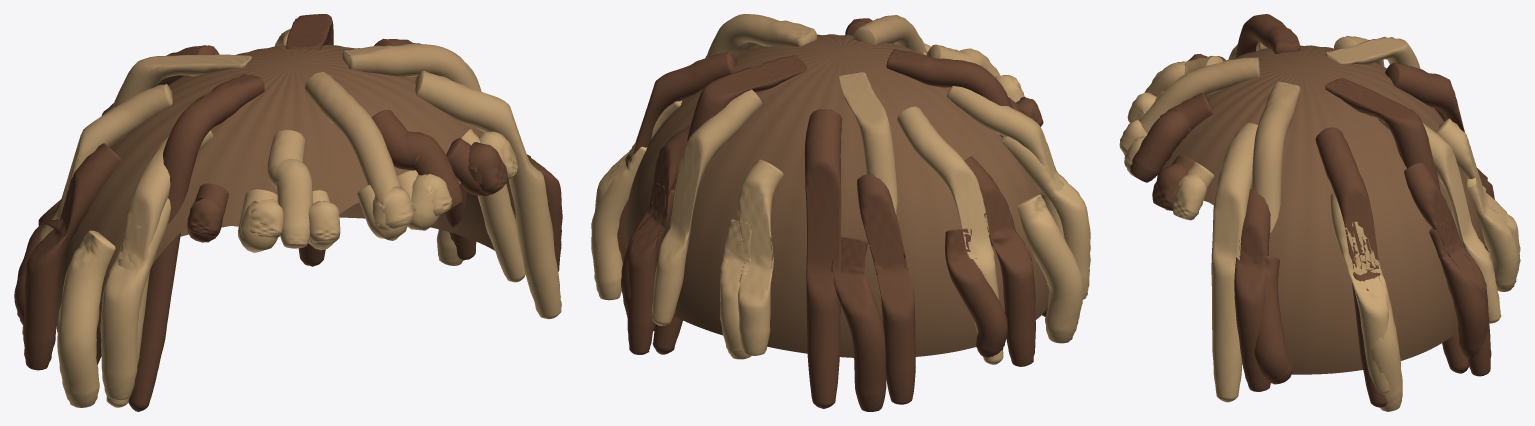
The model's file is Highlights-ce6d6e98d7a8251-hair.glb.
The picture shows the model from 3 angles, left to right: view 1: azimuth 30°, elevation 25°; view 2: azimuth 150°, elevation 25°; view 3: azimuth 270°, elevation 25°; orthographic projection. The views are drawn at different scales.
Visible parts, largest first — view 1: 226 hair / Hair / loc main251.001, 226 hair / Hair / loc accent251.001, 226 hair / Hair / recessed roots251.001; view 2: 226 hair / Hair / loc main251.001, 226 hair / Hair / recessed roots251.001, 226 hair / Hair / loc accent251.001; view 3: 226 hair / Hair / recessed roots251.001, 226 hair / Hair / loc main251.001, 226 hair / Hair / loc accent251.001.
Part boxes in pixels (x1,y1,x2,y2): 226 hair / Hair / loc main251.001: (14, 14, 562, 411); 226 hair / Hair / loc accent251.001: (57, 28, 561, 407); 226 hair / Hair / recessed roots251.001: (56, 44, 516, 364); 226 hair / Hair / loc main251.001: (617, 15, 1048, 411); 226 hair / Hair / recessed roots251.001: (625, 34, 1049, 357); 226 hair / Hair / loc accent251.001: (591, 14, 1090, 359); 226 hair / Hair / recessed roots251.001: (1162, 45, 1485, 374); 226 hair / Hair / loc main251.001: (1130, 14, 1494, 407); 226 hair / Hair / loc accent251.001: (1119, 36, 1520, 411).
Size of the model in its own units: 1.13 by 0.6611 by 0.8968.
